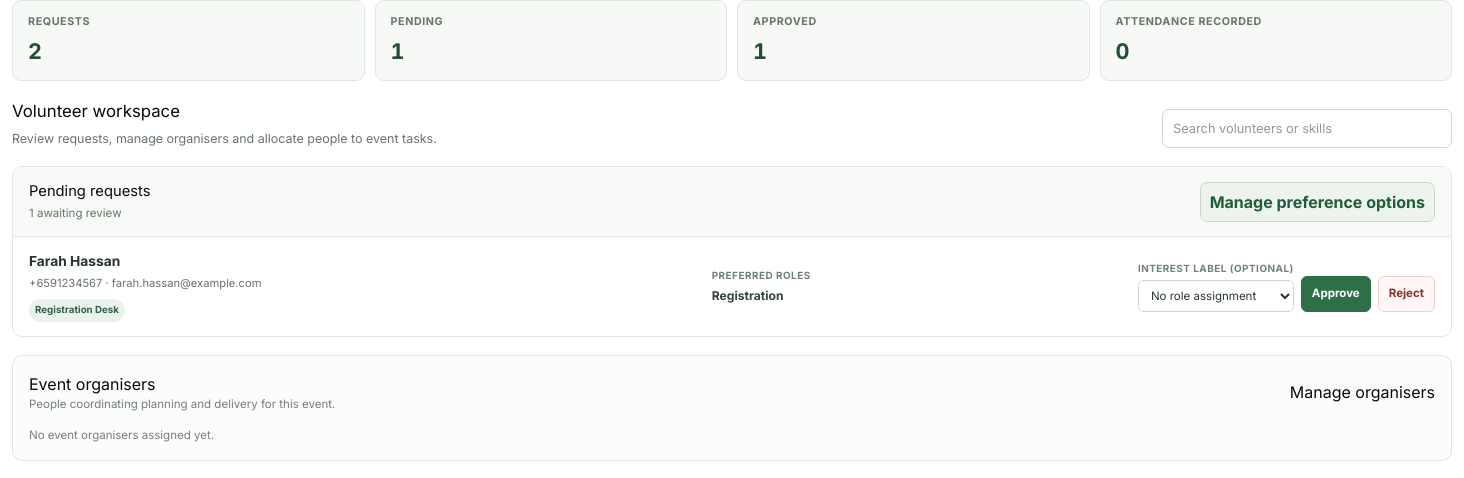
event volunteer workspace › approves a pending request into the selected role
Step 1. Select "Logistics" in the dropdown named "Interest label for Farah Hassan" → x=1216, y=296, box [1138, 280, 1294, 312]
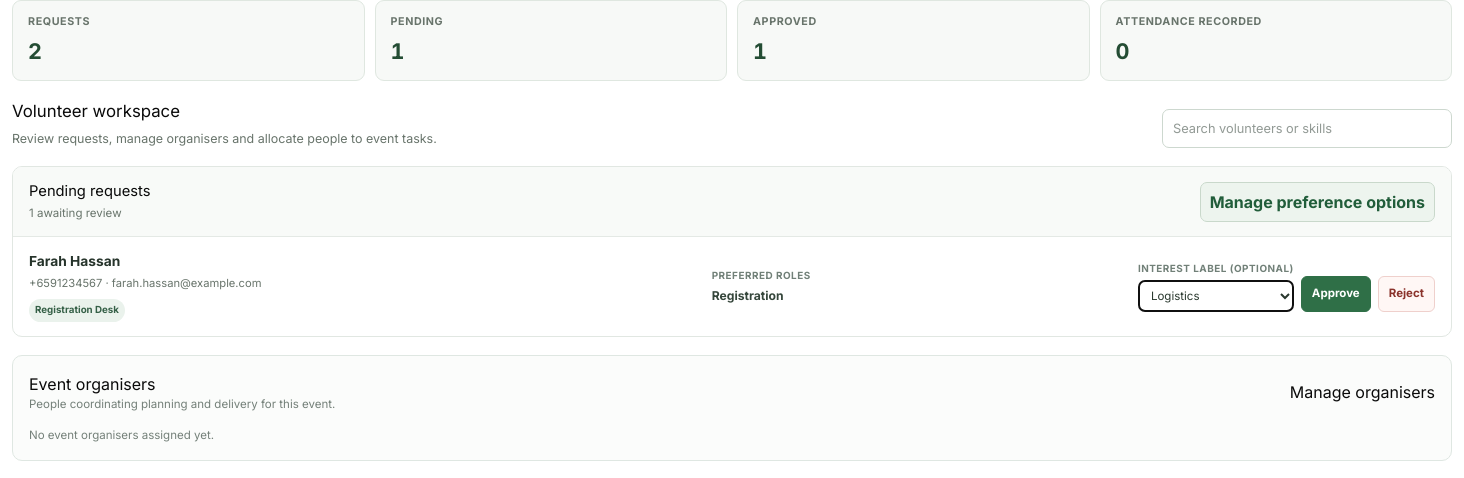
Step 2. Click the button "Approve" → x=1336, y=294, box [1301, 276, 1371, 312]
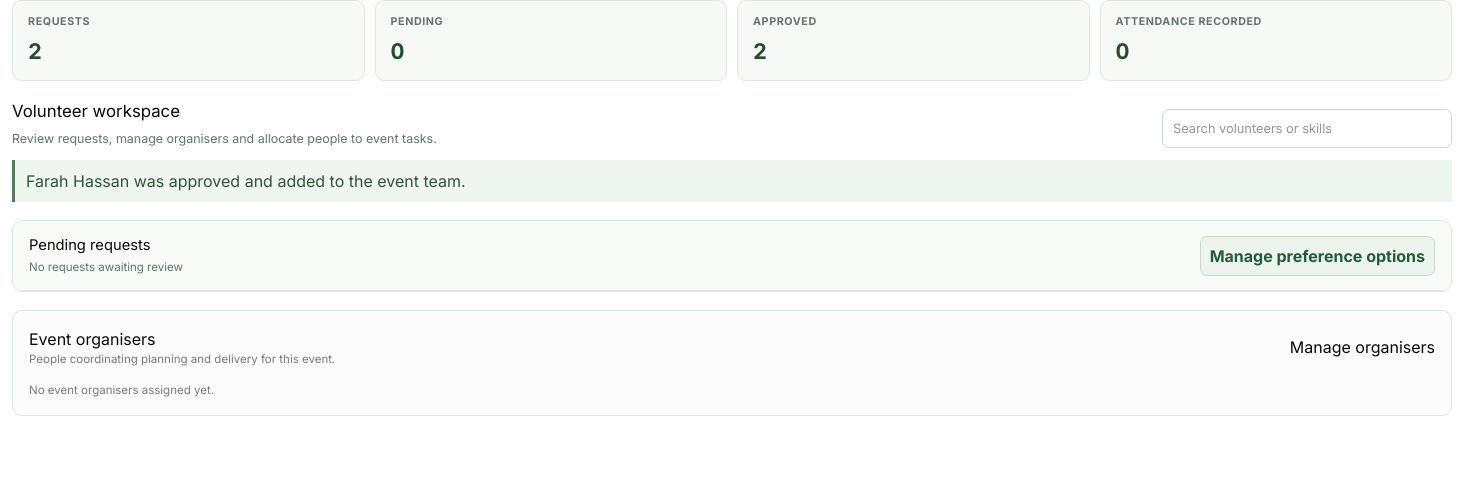
Expected: the text "Farah Hassan was approved and added to the event team." is shown, [12, 160, 1452, 202]
